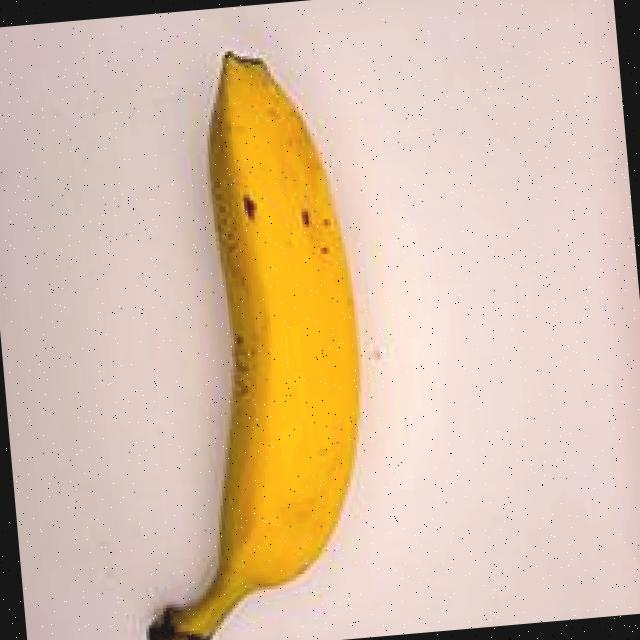Ripe: (74, 7, 416, 640)
